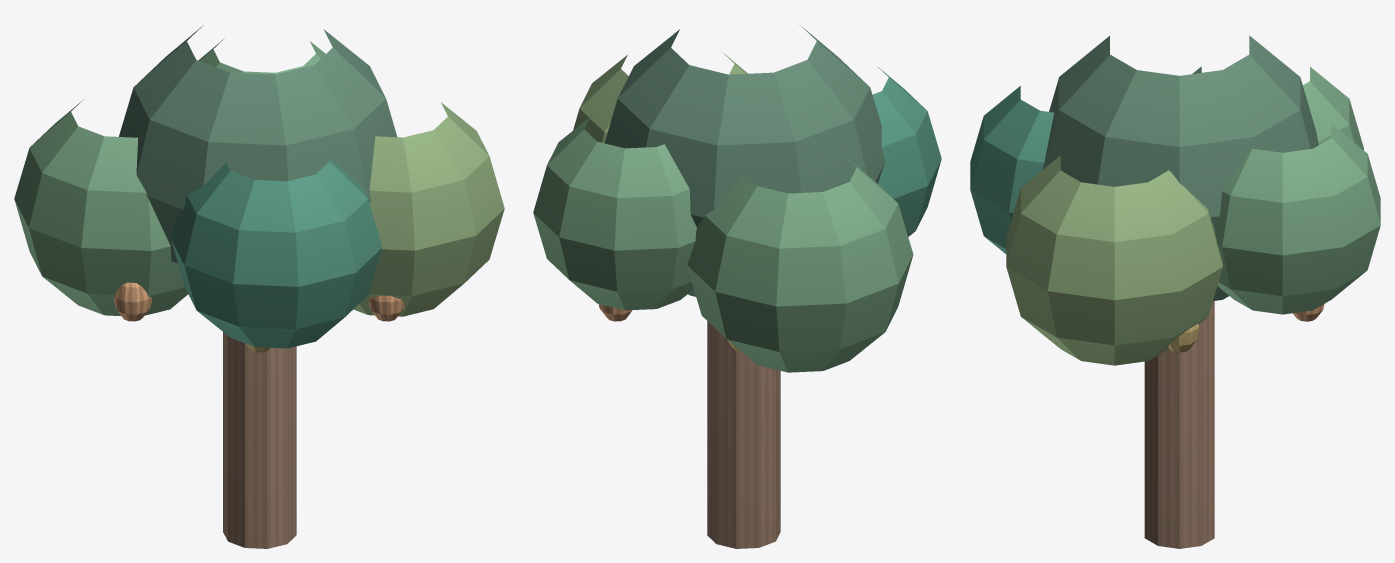
Rendered from mango_fruiting.glb.
3 renders of one model, left to right at view 1: azimuth 30°, elevation 25°; view 2: azimuth 150°, elevation 25°; view 3: azimuth 270°, elevation 25°, orthographic.
Visible parts, largest first — view 1: mango_fruiting; view 2: mango_fruiting; view 3: mango_fruiting.
Boxes of the visible parts, x1,y1,x2,y2 form: mango_fruiting: [14, 25, 504, 548]; mango_fruiting: [533, 24, 941, 548]; mango_fruiting: [970, 35, 1380, 548].
Bounding box in the file's own units: 4.15 × 5.15 × 3.79.
1 material, 1 textured.
